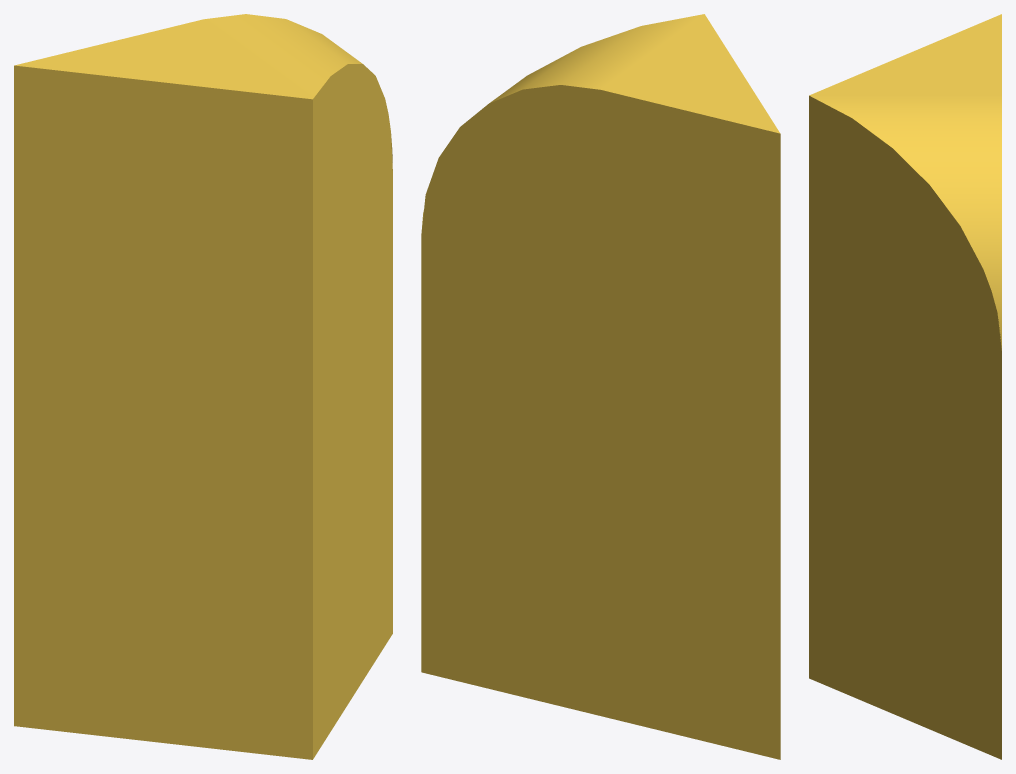
File: Corner_Corner_StraightToRound.obj
The picture shows the model from 3 angles, left to right: view 1: azimuth 30°, elevation 25°; view 2: azimuth 150°, elevation 25°; view 3: azimuth 270°, elevation 25°; orthographic projection. The views are drawn at different scales.
Parts seen in each view (by area): view 1: Corner_Corner_StraightToRound; view 2: Corner_Corner_StraightToRound; view 3: Corner_Corner_StraightToRound.
Part boxes in pixels (x1,y1,x2,y2): Corner_Corner_StraightToRound: (14, 14, 392, 759); Corner_Corner_StraightToRound: (421, 14, 780, 759); Corner_Corner_StraightToRound: (809, 14, 1001, 759).
Size of the model in its own units: 0.3 by 0.5 by 0.15.
